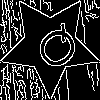Q: (25, 19, 84, 80)
